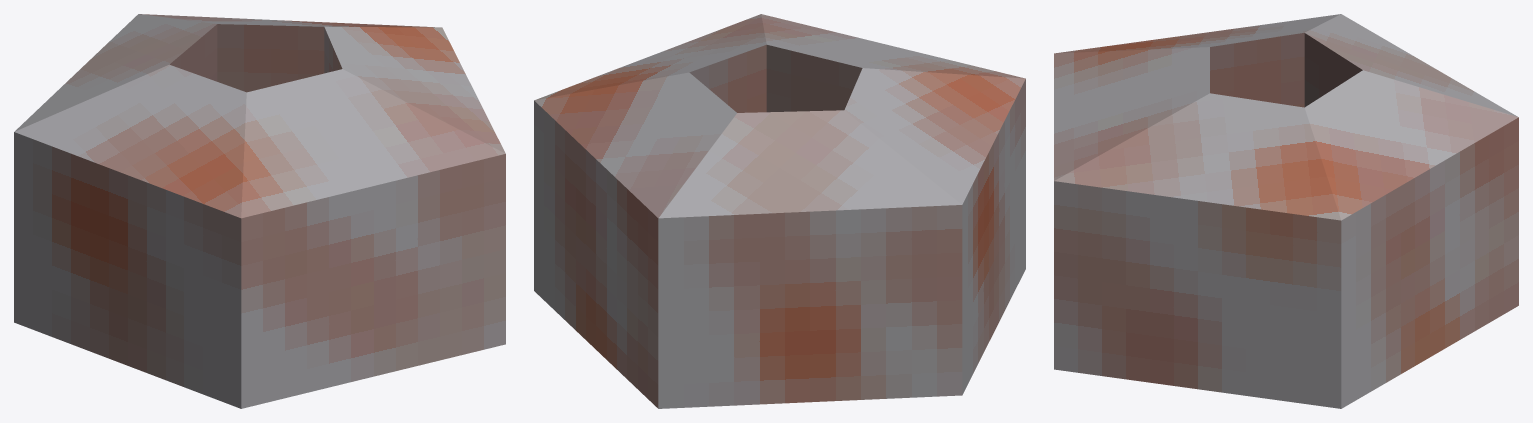
The model's file is bullet_nut.fbx.
3 renders of one model, left to right at view 1: azimuth 30°, elevation 25°; view 2: azimuth 150°, elevation 25°; view 3: azimuth 270°, elevation 25°, orthographic.
Visible parts, largest first — view 1: root; view 2: root; view 3: root.
Part boxes in pixels (x1,y1,x2,y2): root: (14,14,505,408); root: (534,14,1025,408); root: (1054,14,1518,408).
Size of the model in its own units: 118 by 75 by 112.
Materials: 1 (1 with a texture image).
